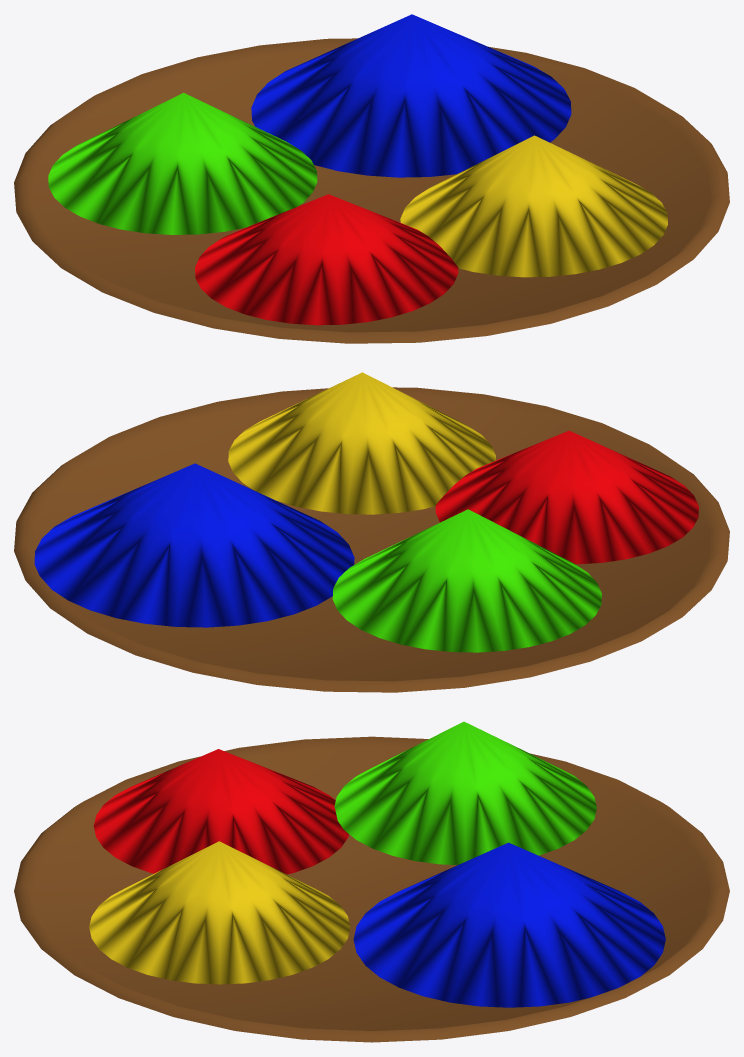
The model's file is holiplate.glb.
3 renders of one model, top to bottom at view 1: azimuth 30°, elevation 25°; view 2: azimuth 150°, elevation 25°; view 3: azimuth 270°, elevation 25°, orthographic.
Visible parts, largest first — view 1: Circle, Cone.002, Cone, Cone.001, Cone.003; view 2: Circle, Cone.002, Cone, Cone.001, Cone.003; view 3: Circle, Cone.002, Cone.001, Cone, Cone.003.
Boxes of the visible parts, x1,y1,x2,y2 form: Circle: (14,38,729,343); Cone.002: (251,14,571,177); Cone: (48,92,317,234); Cone.001: (400,135,667,277); Cone.003: (195,194,458,325); Circle: (14,387,729,692); Cone.002: (34,463,354,627); Cone: (332,509,601,652); Cone.001: (228,372,495,514); Cone.003: (435,430,698,564); Circle: (14,736,729,1042); Cone.002: (353,842,665,1007); Cone.001: (89,841,350,984); Cone: (334,721,596,865); Cone.003: (93,749,348,874).
Bounding box in the file's own units: 2 × 0.3127 × 2.
